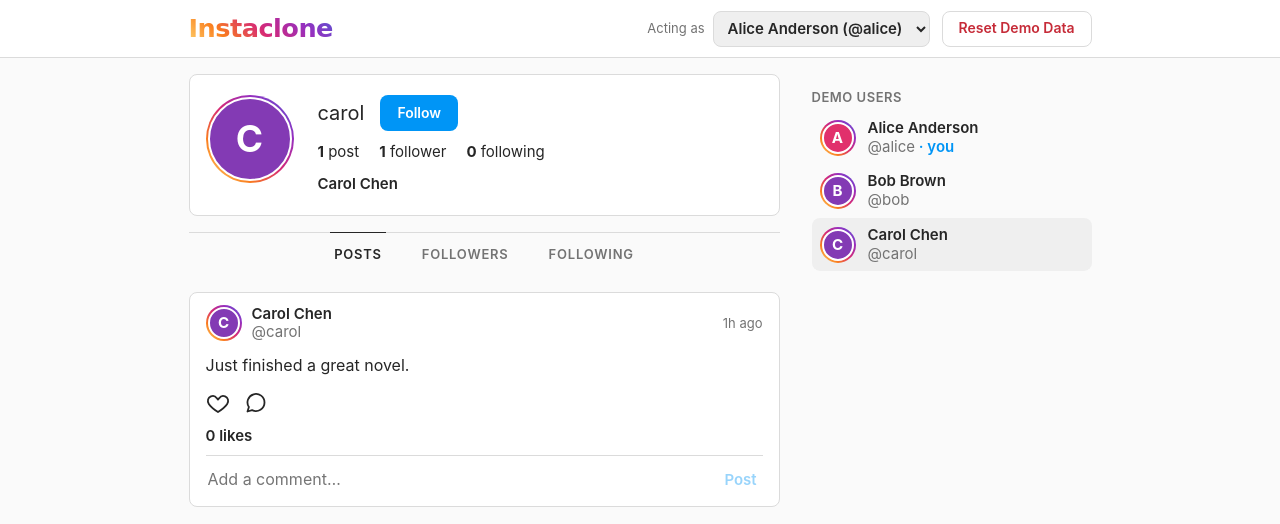
Test: profiles and following › shows counts and a follow button for other users, and follows on click
Check: the heading "carol" is shown, box [318,99,364,128]
Check: the text "Just finished a great novel." is shown, box [206,355,409,375]
Click the button "Follow" at (419, 113), box [380,95,458,131]
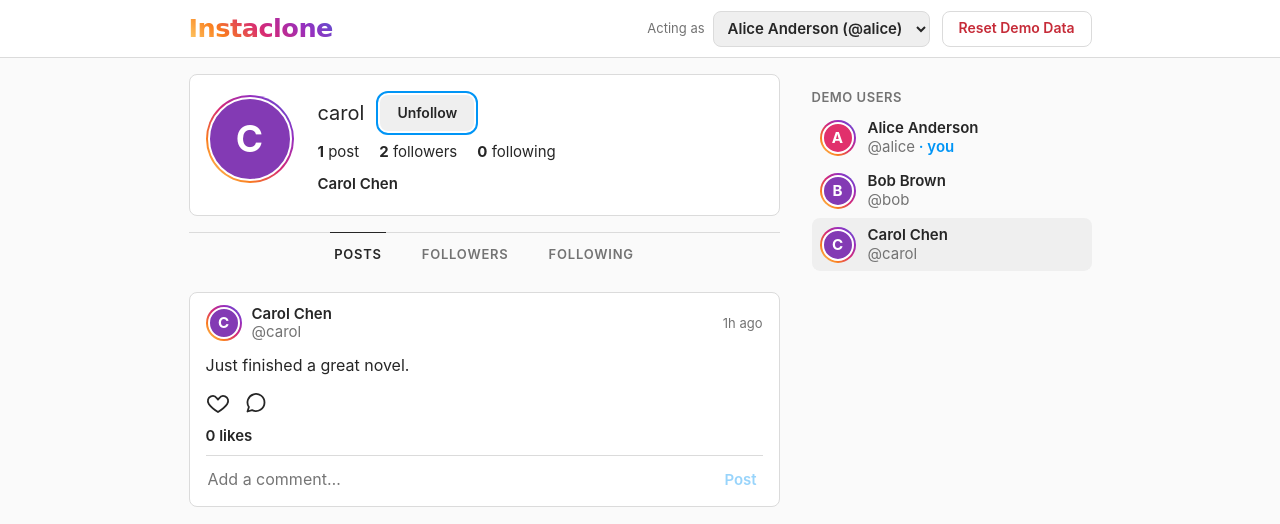
Check: the button "Unfollow" is shown, box [380,95,474,131]
Check: the list item "followers" is shown, box [393,142,457,161]
